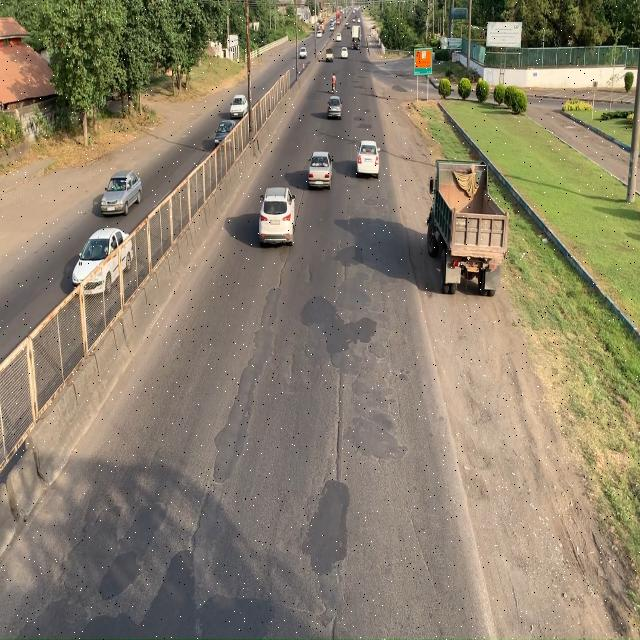Truck: (425, 156, 511, 298)
cars: (71, 224, 132, 301), (256, 183, 299, 249), (99, 163, 145, 219), (355, 133, 385, 181), (308, 147, 336, 194), (327, 91, 343, 120)
